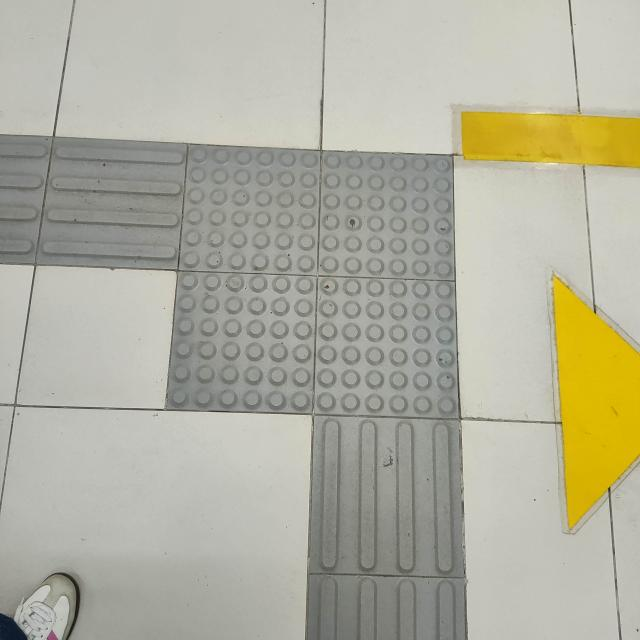kiri: (39, 46, 559, 528)
